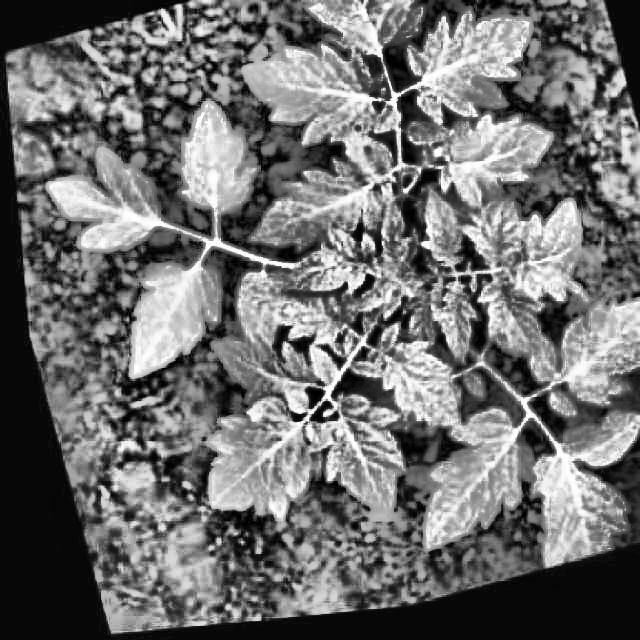plants: (4, 0, 638, 638)
